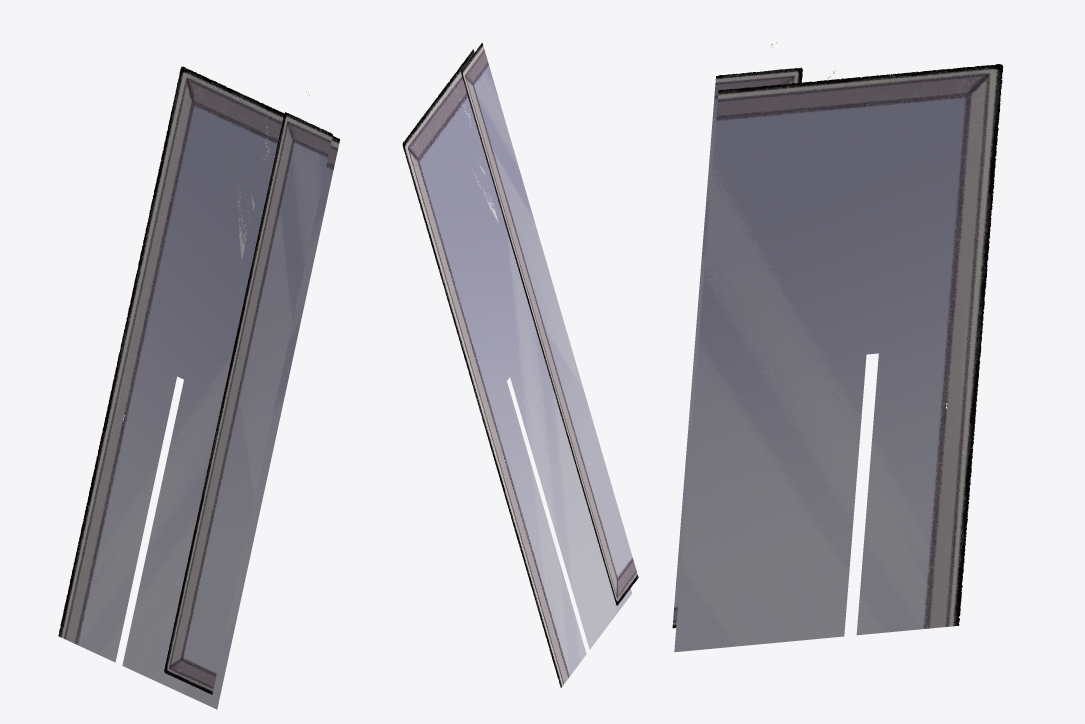
File: Espejo.fbx
3 views of the same model, side by side, from view 1: azimuth 30°, elevation 25°; view 2: azimuth 150°, elevation 25°; view 3: azimuth 270°, elevation 25° (orthographic). The views are drawn at different scales.
Parts seen in each view (by area): view 1: Cube.020; view 2: Cube.020; view 3: Cube.020.
Boxes of the visible parts, x1=… form: Cube.020: x1=58, y1=66, x2=339, y2=709; Cube.020: x1=402, y1=34, x2=638, y2=687; Cube.020: x1=672, y1=42, x2=1003, y2=652.
Bounding box in the file's own units: 76.42 × 192 × 100.
